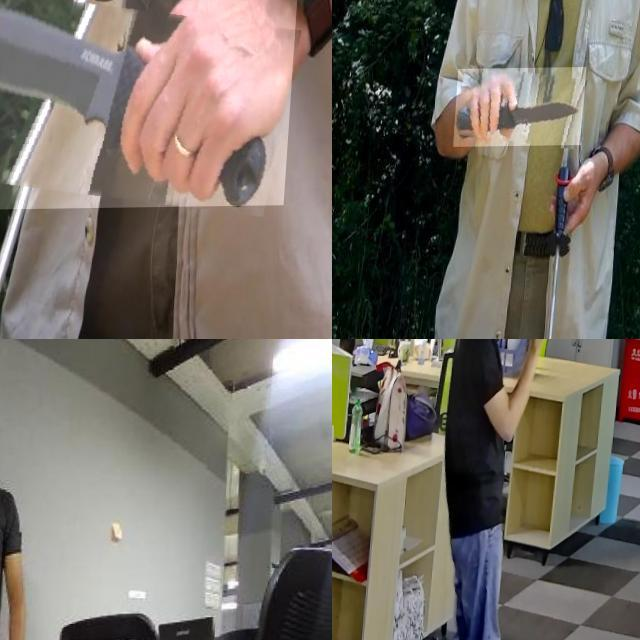-: (0, 0, 299, 211), (458, 68, 590, 148)
gun-knife-thesis - v11 Yolov5 augmented: (518, 339, 563, 383)
